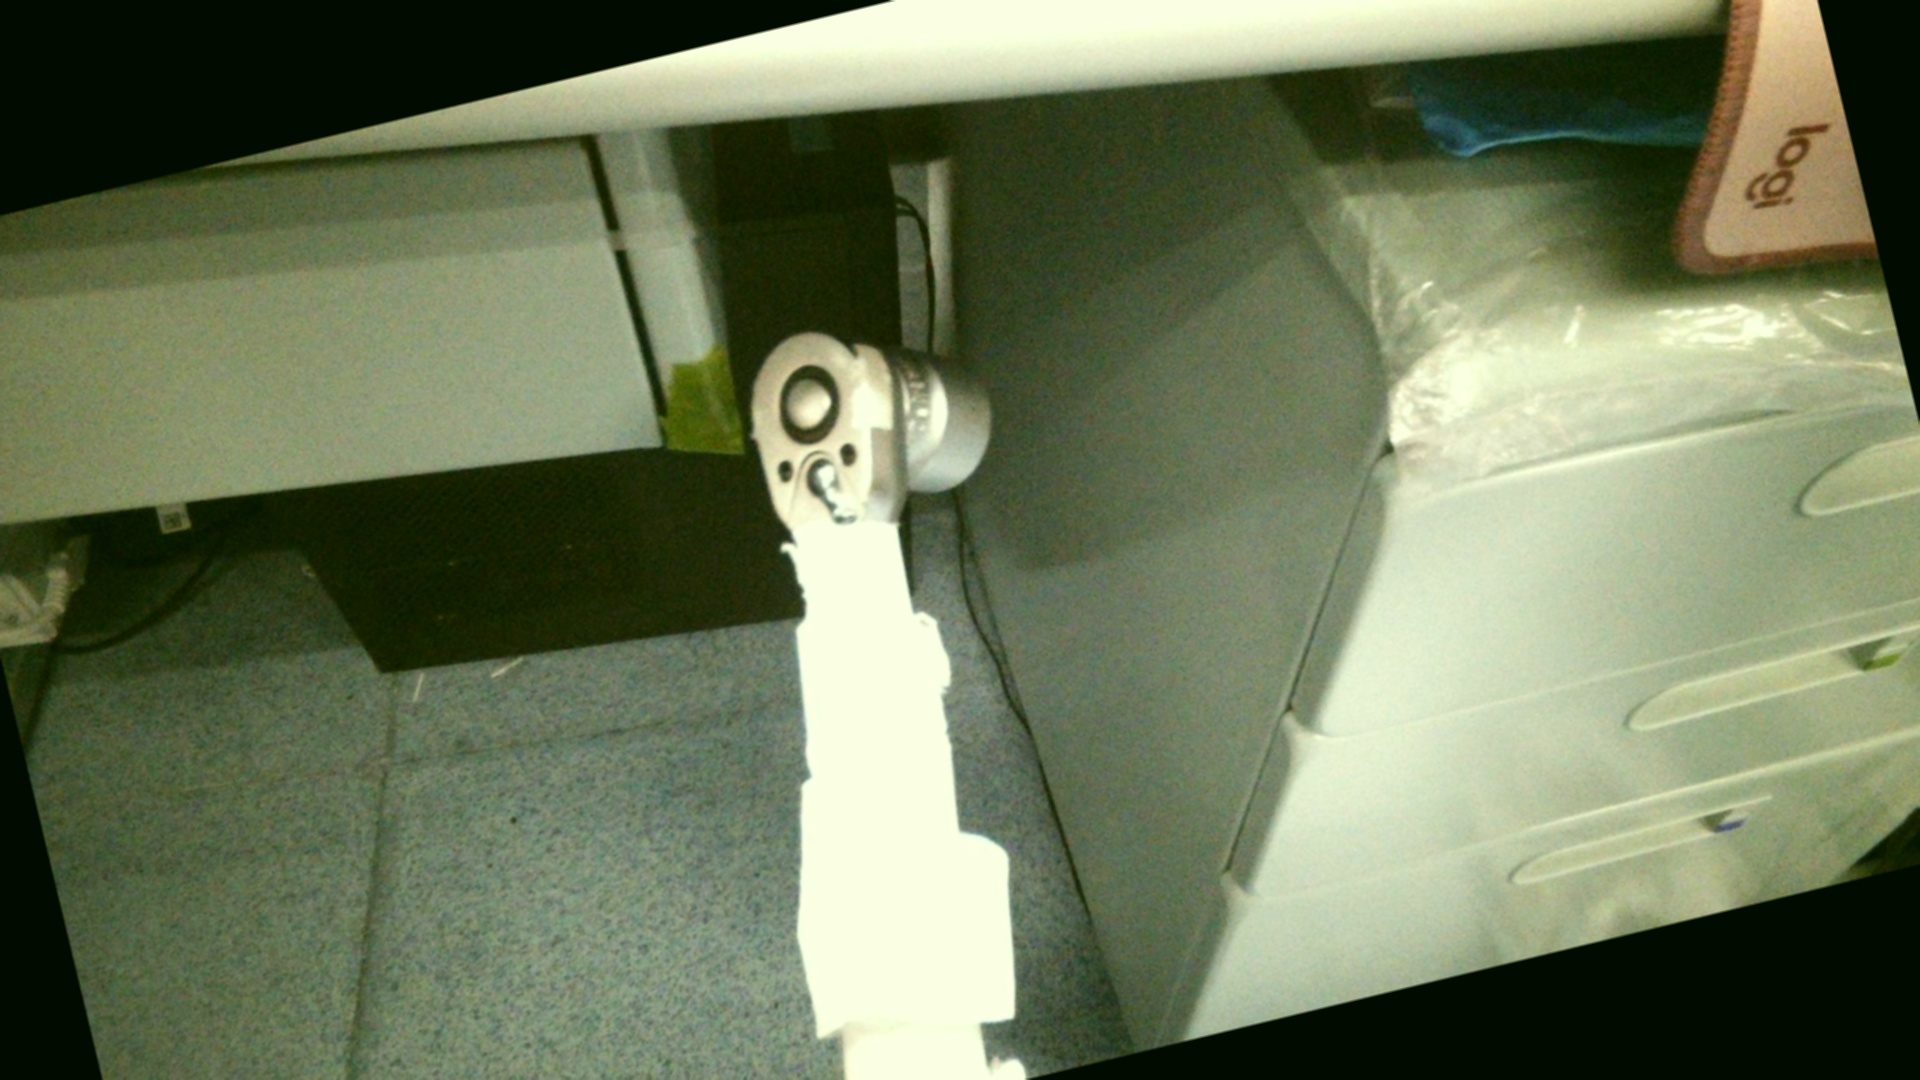wrench: (756, 353, 855, 459)
